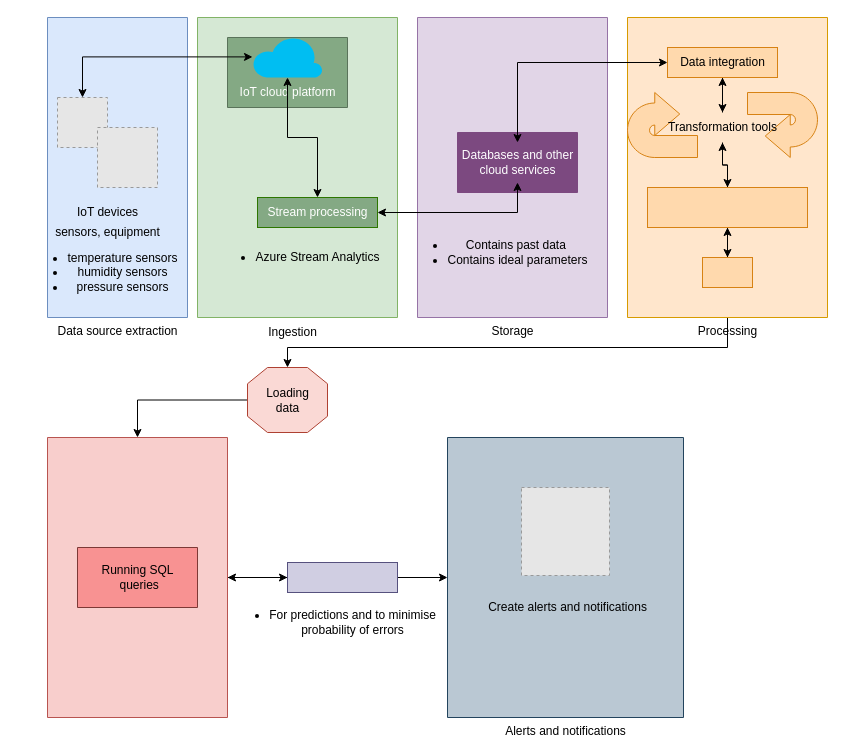
This 845x756 diagram has some shape labels left out. Grey dashed boxes stand in for pictures. Here are the shapes that lost their labels. From the top down, the box of each, then its label:
(646, 186, 808, 228): Batch processing and streaming workloads
(702, 256, 752, 288): Spark
(46, 436, 228, 718): Data warehouse
(286, 562, 398, 592): Machine learning
